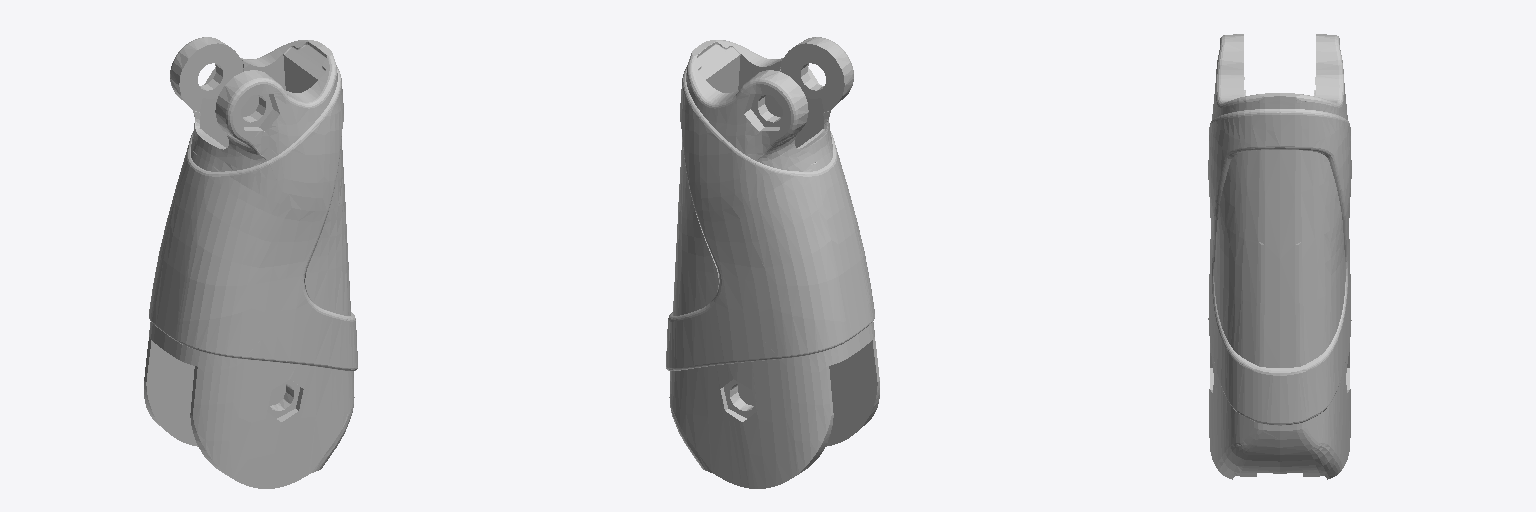
The picture shows the model from 3 angles: view 1: azimuth 30°, elevation 25°; view 2: azimuth 150°, elevation 25°; view 3: azimuth 270°, elevation 25°; orthographic projection.
Visible parts, largest first — view 1: Link15_R; view 2: Link15_R; view 3: Link15_R.
Part boxes in pixels (x1,y1,x2,y2): Link15_R: (144, 37, 357, 488); Link15_R: (666, 37, 879, 488); Link15_R: (1208, 34, 1351, 479).
Size of the model in its own units: 0.0213 by 0.0452 by 0.0143.